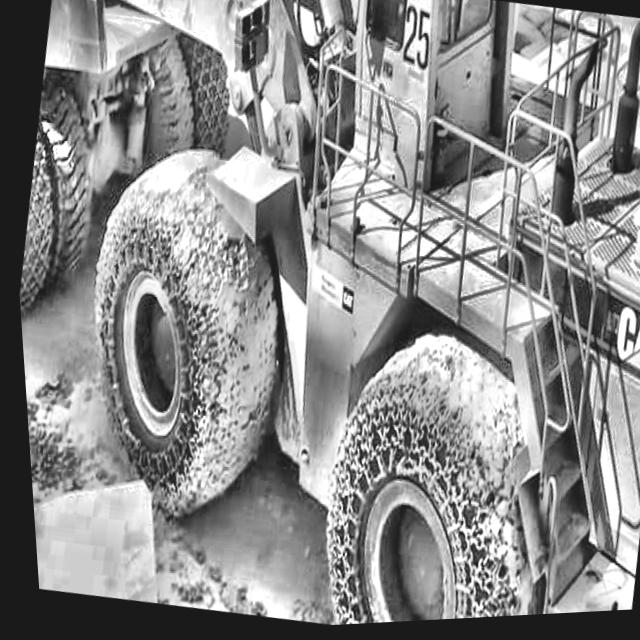buldozerpayloadergrader: (14, 0, 640, 639)
dump_truck: (0, 0, 271, 382)
